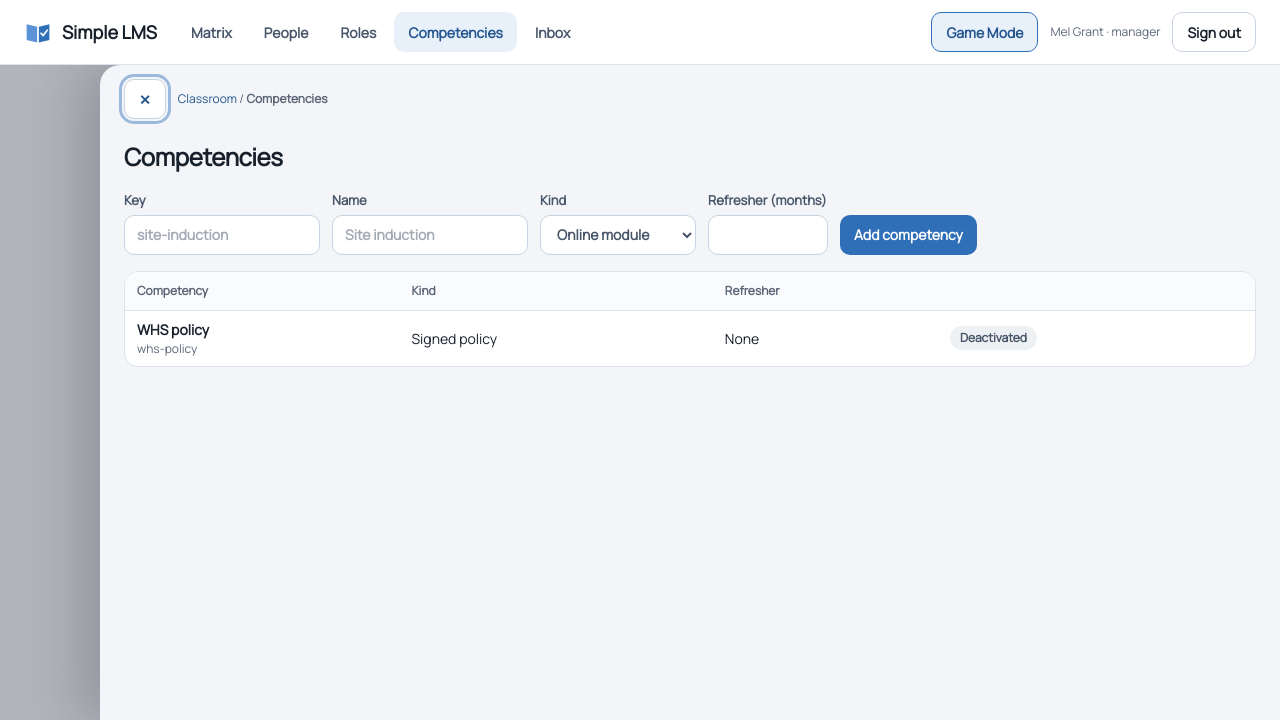
Test case: competencies › asks for a deactivated policy to be reactivated before a new version
Click the button "WHS policy whs-policy": coordinates (173, 338) 137,318 -> 209,358
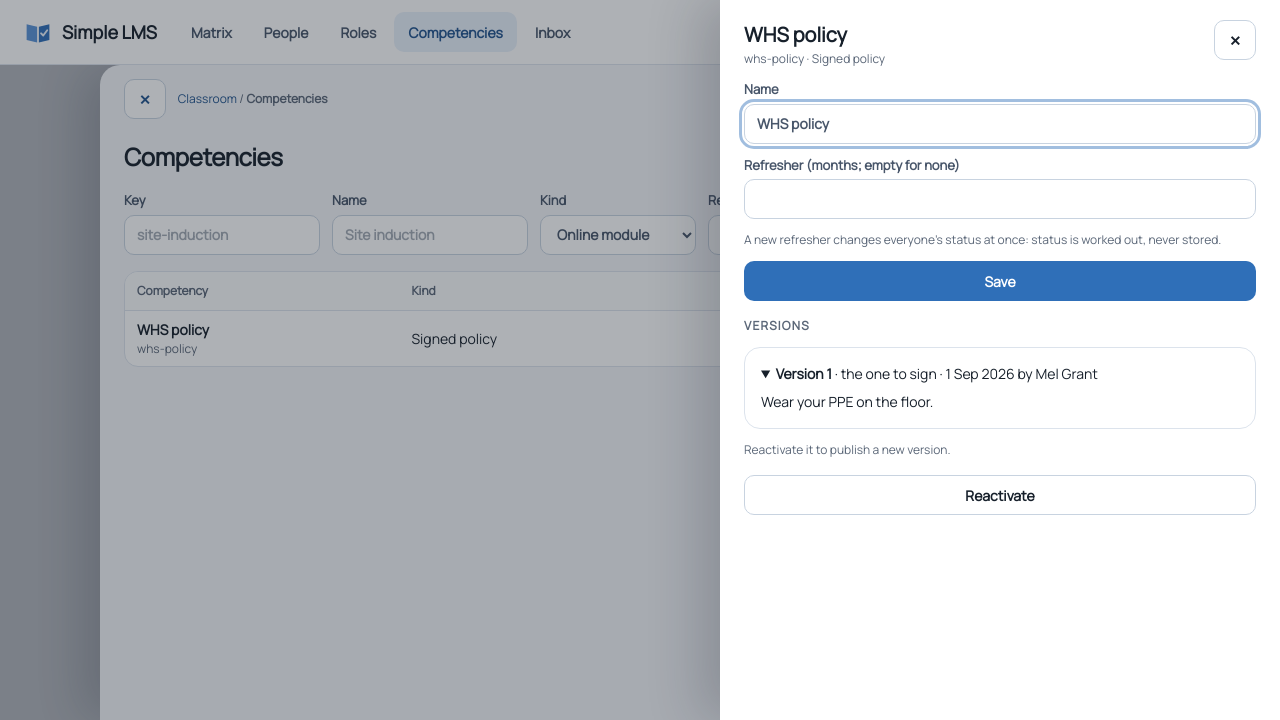
Now the text "Wear your PPE on the floor." is shown, box 761,392 -> 933,411
Now the text "Reactivate it to publish a new version." is shown, box 744,441 -> 950,458
